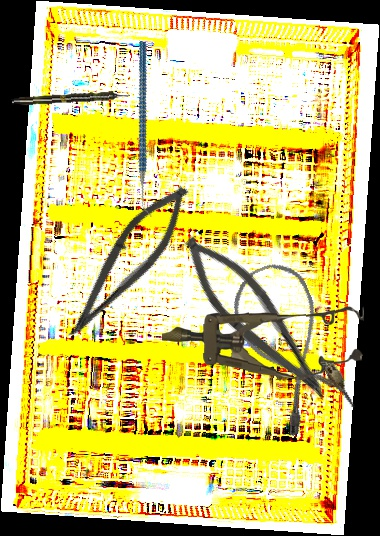Cannula: (220, 254, 359, 439)
Chopper: (85, 40, 208, 218)
Handpiece: (11, 90, 131, 107)
Micro Scissor: (166, 224, 348, 411), (55, 171, 202, 355)
Speculum: (160, 296, 365, 383)
